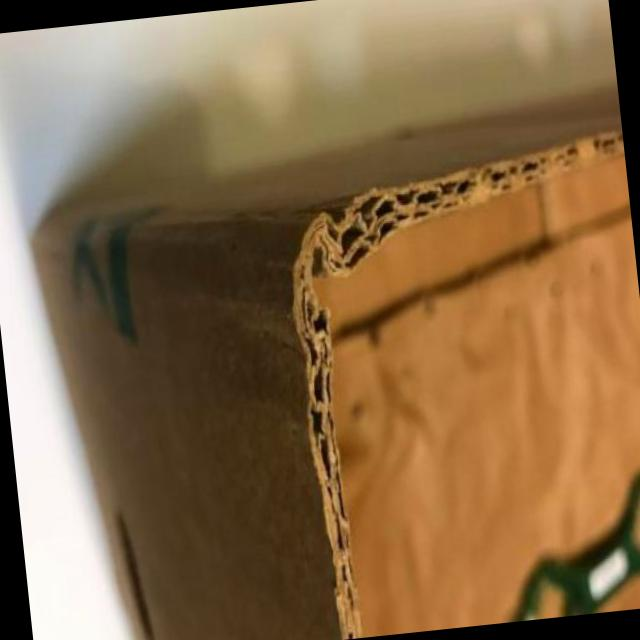cardboard paper: (35, 131, 640, 640)
